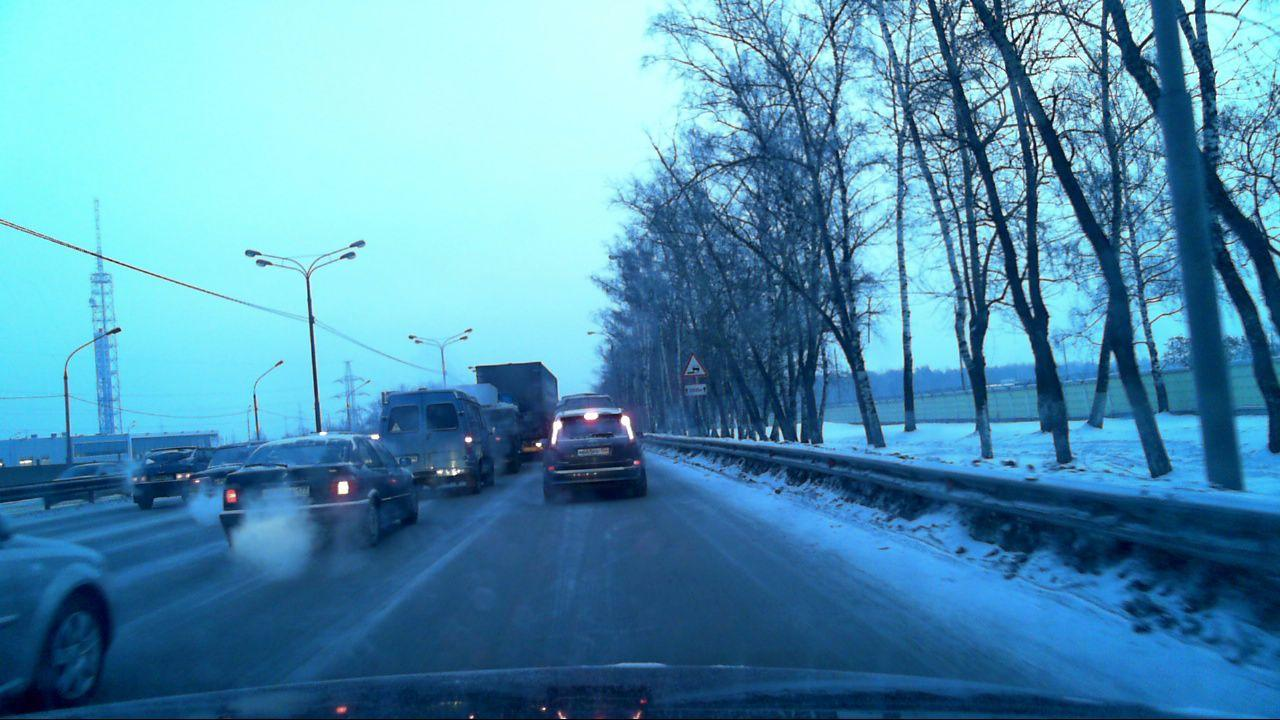1_19: (683, 355, 705, 378)
8_2_1: (682, 383, 709, 396)
